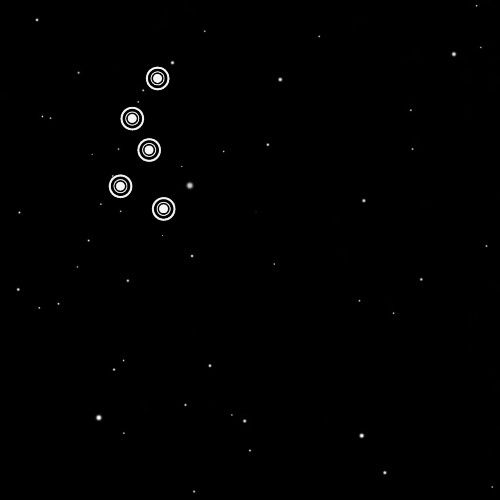cassiopeia: (90, 56, 190, 239)
